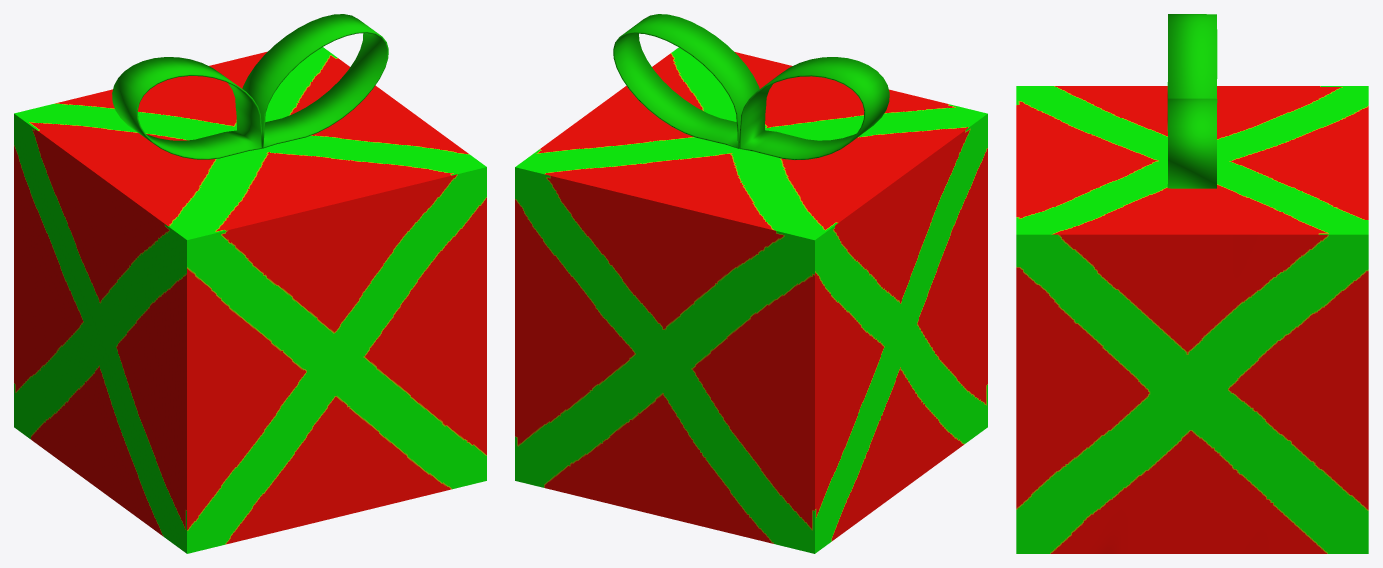
The model's file is present.fbx.
3 renders of one model, left to right at view 1: azimuth 30°, elevation 25°; view 2: azimuth 150°, elevation 25°; view 3: azimuth 270°, elevation 25°, orthographic.
Parts seen in each view (by area): view 1: Cube, Cylinder; view 2: Cube, Cylinder; view 3: Cube, Cylinder.
Boxes of the visible parts, box(x1,y1,x2,y2) form: Cube: box(14, 47, 486, 553); Cylinder: box(112, 14, 388, 159); Cube: box(515, 47, 987, 553); Cylinder: box(613, 14, 889, 159); Cube: box(1016, 86, 1368, 553); Cylinder: box(1167, 14, 1217, 188).
Bounding box in the file's own units: 2 × 2.6 × 2.
